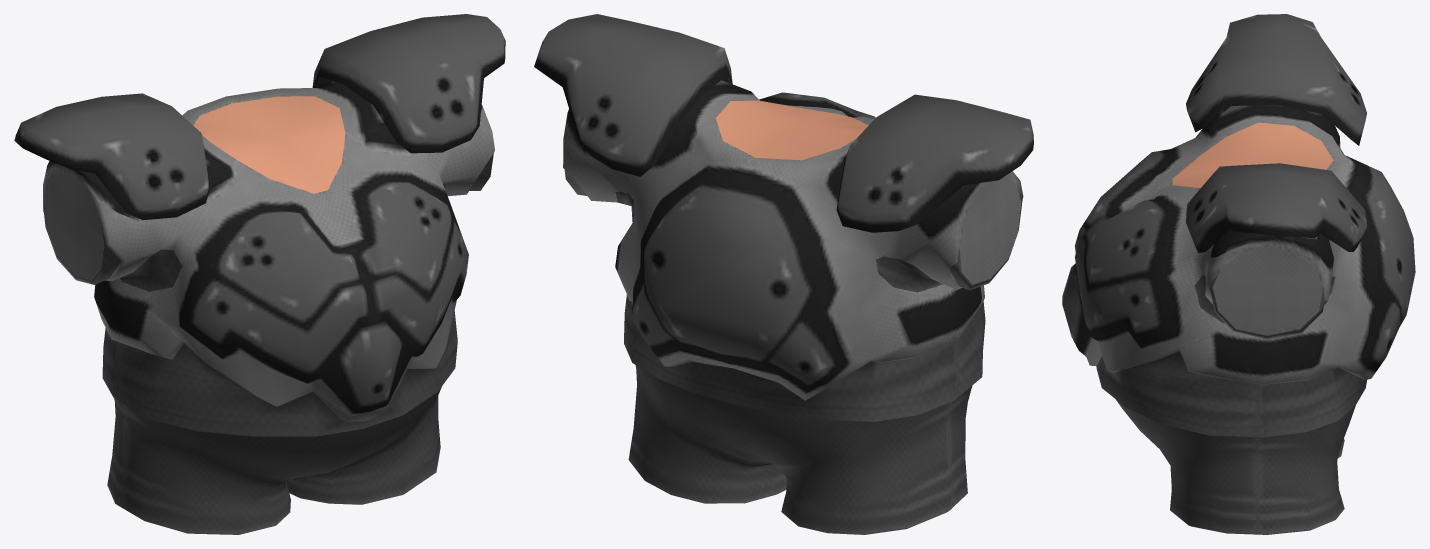
3 views of the same model, side by side, from view 1: azimuth 30°, elevation 25°; view 2: azimuth 150°, elevation 25°; view 3: azimuth 270°, elevation 25° (orthographic). The views are drawn at different scales.
Visible parts, largest first — view 1: model_0_submesh_0, model_0_submesh_1; view 2: model_0_submesh_0, model_0_submesh_1; view 3: model_0_submesh_0, model_0_submesh_1.
Boxes of the visible parts, left/top/right/bottom form: model_0_submesh_0: left=14, top=14, right=505, bottom=422; model_0_submesh_1: left=43, top=153, right=493, bottom=534; model_0_submesh_0: left=534, top=14, right=1033, bottom=400; model_0_submesh_1: left=564, top=170, right=1022, bottom=534; model_0_submesh_0: left=1062, top=14, right=1415, bottom=384; model_0_submesh_1: left=1096, top=269, right=1366, bottom=534.
Size of the model in its own units: 0.5645 by 0.4671 by 0.4031.
